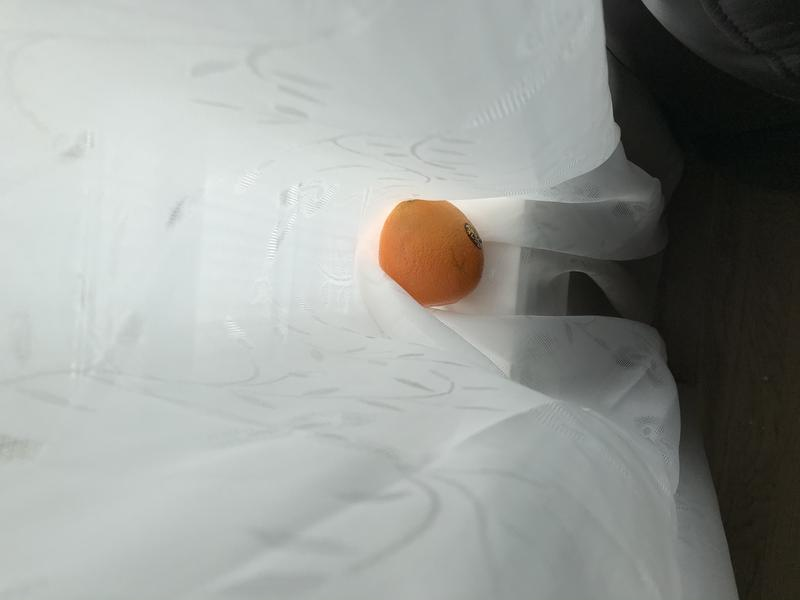orange: (368, 186, 496, 318)
